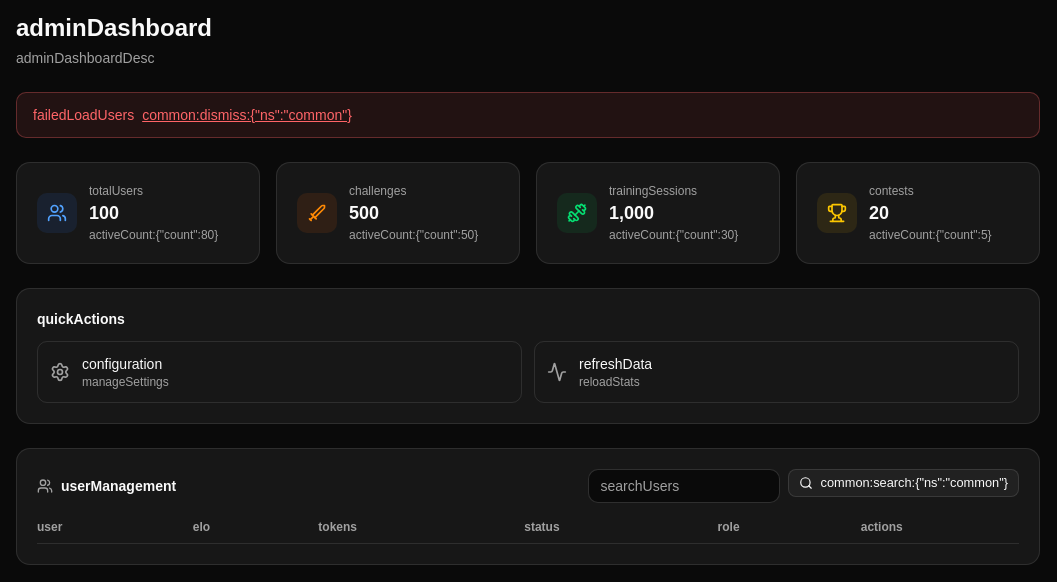
AdminOverviewPage › clears error on dismiss button click
expect the text "failedLoadUsers" is shown: met, box top-left (33, 107), bottom-right (134, 123)
Click the button "common:dismiss:{\"ns\":\"common\"}" at (247, 115), box top-left (142, 105), bottom-right (352, 125)
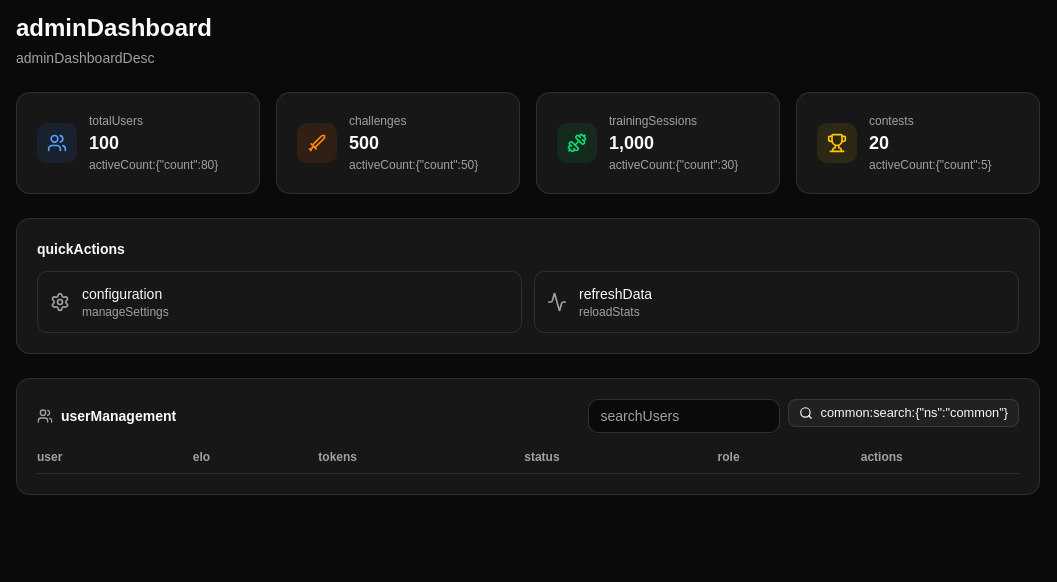
expect the text "failedLoadUsers" is gone: met
